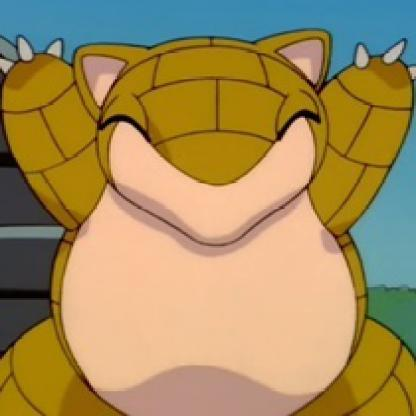Sandshrew: (1, 17, 415, 415)
